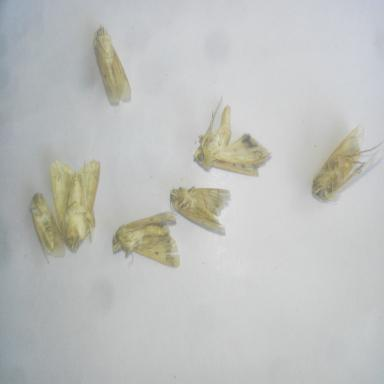abw: (191, 96, 273, 180), (309, 120, 383, 208), (47, 153, 105, 256), (109, 208, 182, 272), (167, 178, 234, 239), (89, 21, 133, 108), (25, 188, 70, 266)
